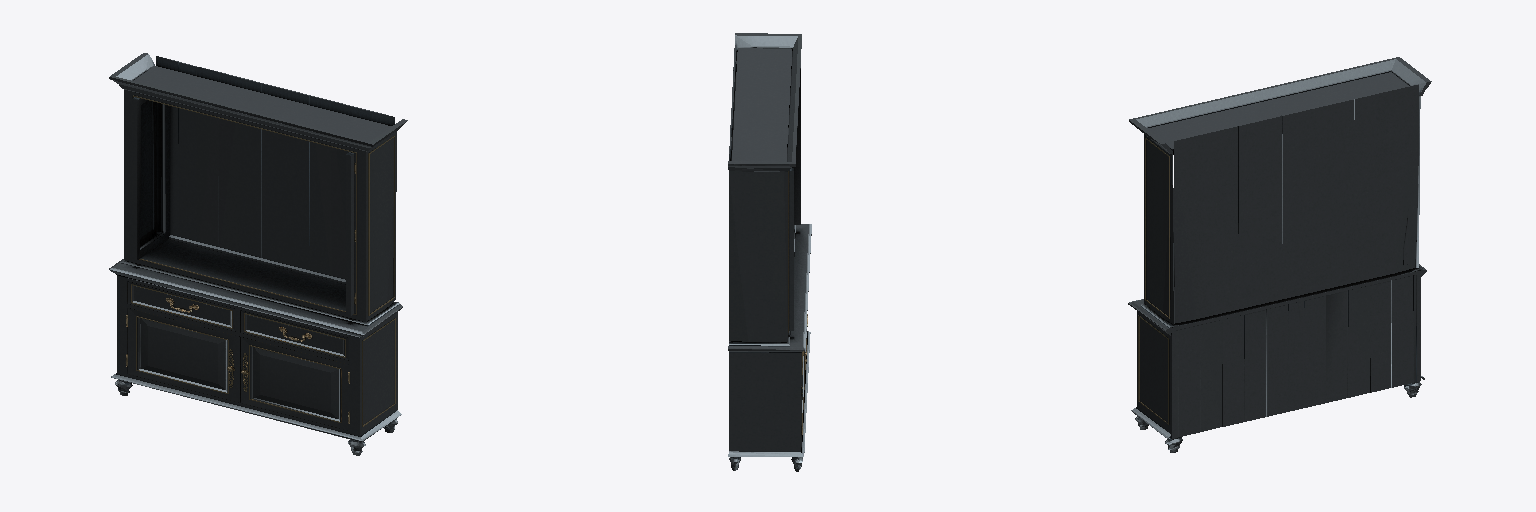
3 views of the same model, side by side, from view 1: azimuth 30°, elevation 25°; view 2: azimuth 150°, elevation 25°; view 3: azimuth 270°, elevation 25° (orthographic).
Size of the model in its own units: 1.17 by 1.9 by 1.66.
1 materials, 1 textured.